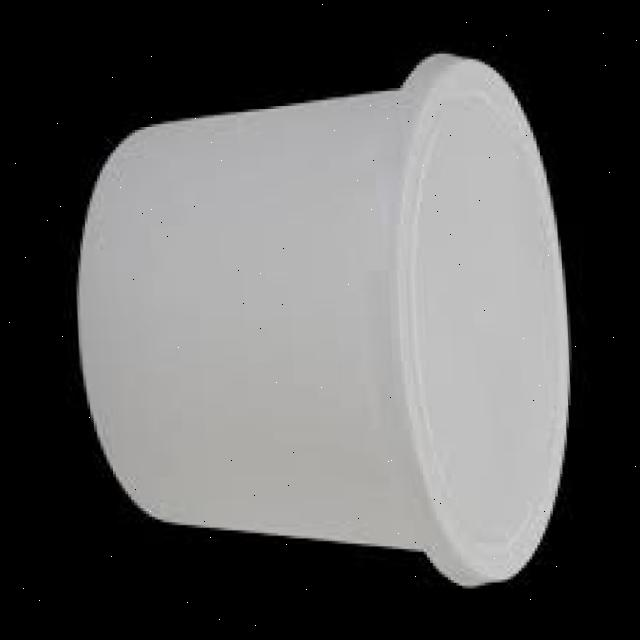disposable: (42, 48, 580, 601)
